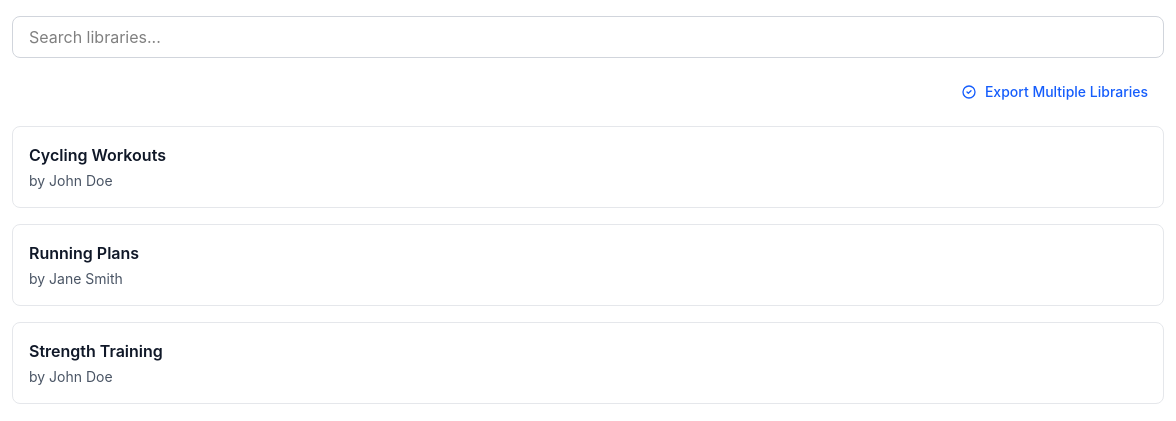
Test: LibraryList › Search Functionality › should filter libraries by owner name
Expected: the heading "Cycling Workouts" is shown, 29,145 -> 166,165
Step 1. Type "Jane" into the field with placeholder "Search libraries..." → (588, 37), box 12,16 -> 1164,58
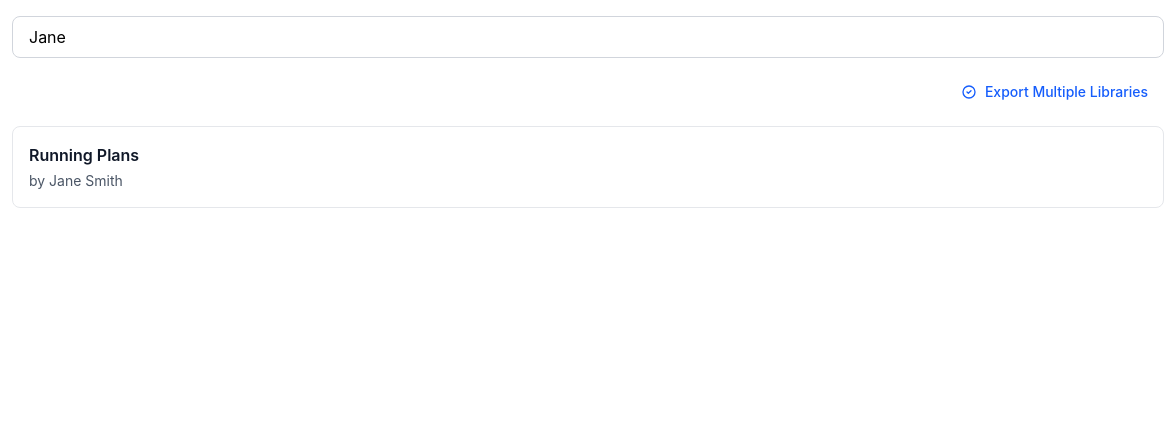
Expected: the heading "Running Plans" is shown, 29,145 -> 139,165
Expected: the button "Cycling Workouts" is gone
